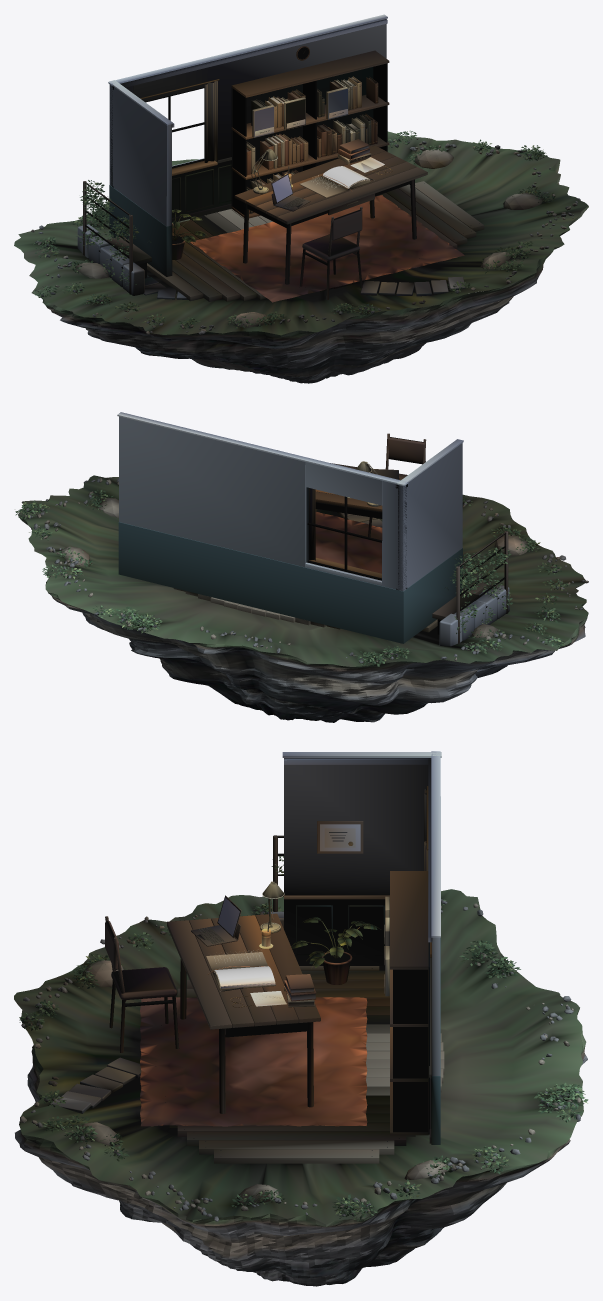
Rendered from flight-writing-a70fb6d0.glb.
The picture shows the model from 3 angles, top to bottom: view 1: azimuth 30°, elevation 25°; view 2: azimuth 150°, elevation 25°; view 3: azimuth 270°, elevation 25°; orthographic projection. The views are drawn at different scales.
Parts seen in each view (by area): view 1: Writing island · flight.001; view 2: Writing island · flight.001; view 3: Writing island · flight.001.
Boxes of the visible parts, x1,y1,x2,y2 form: Writing island · flight.001: [14, 14, 588, 383]; Writing island · flight.001: [15, 412, 588, 722]; Writing island · flight.001: [14, 751, 588, 1286].
Bounding box in the file's own units: 11.74 × 6.45 × 8.16.
